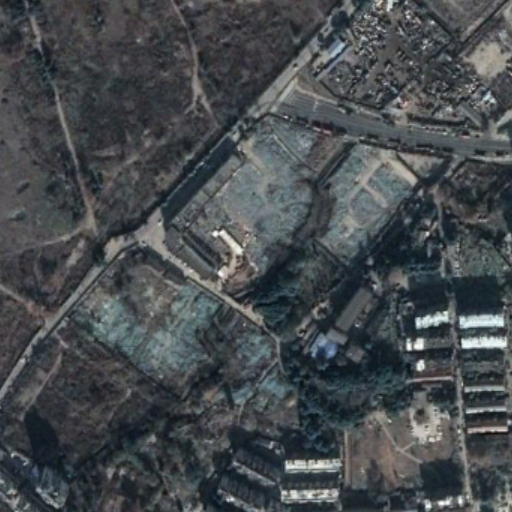cw: (161, 112, 421, 334), (63, 238, 278, 406)
